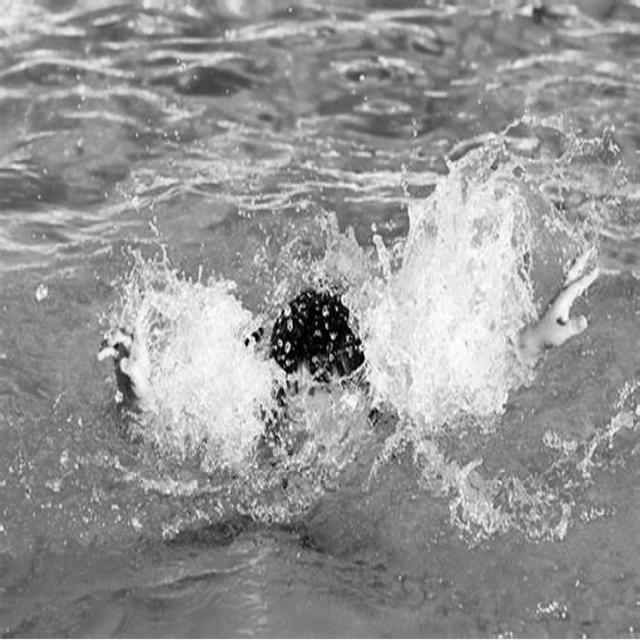drowning: (75, 151, 606, 588)
